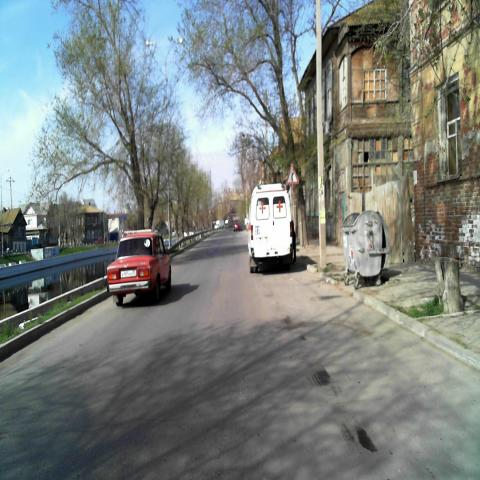1_11: (286, 162, 300, 184)
